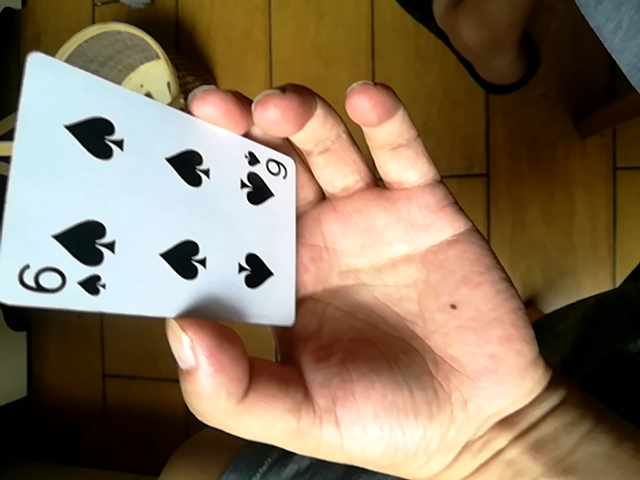ht 6: (4, 49, 306, 336)
